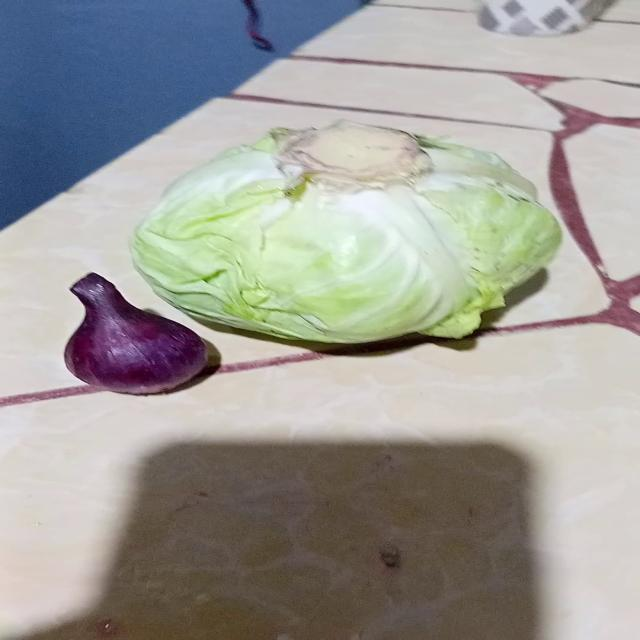cabbage: (129, 121, 563, 347)
onion: (62, 274, 222, 397)
